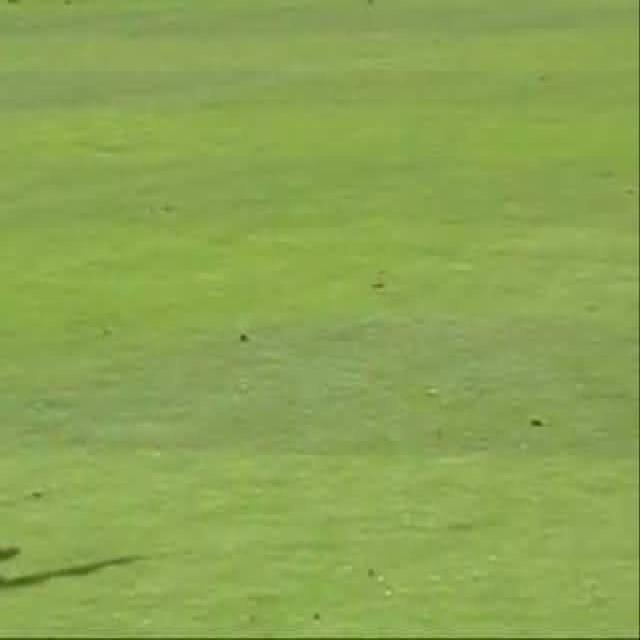player-white: (0, 0, 56, 394)
